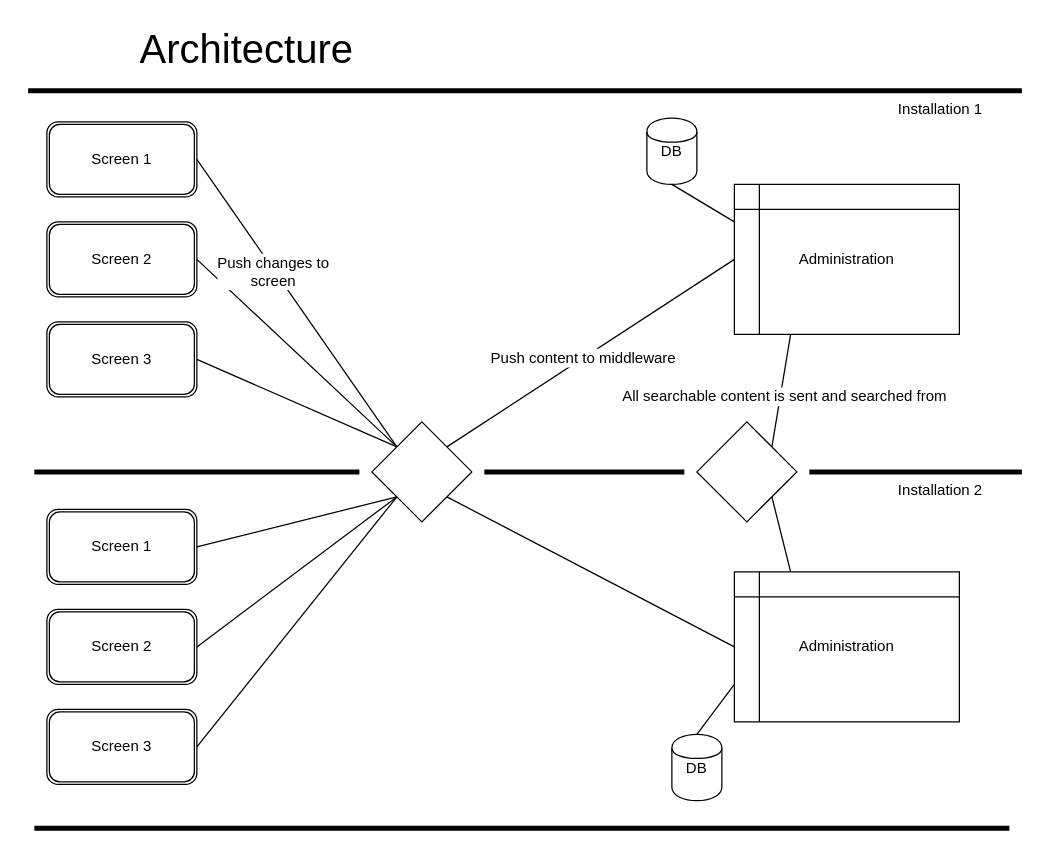
Some shapes in this 1045 by 858 pixel diagram are drawn without their labels. Here are the shapes that lost their labels. From the top down, the centre of each, then its label:
point 421,471: Middleware
point 746,471: Search Node
